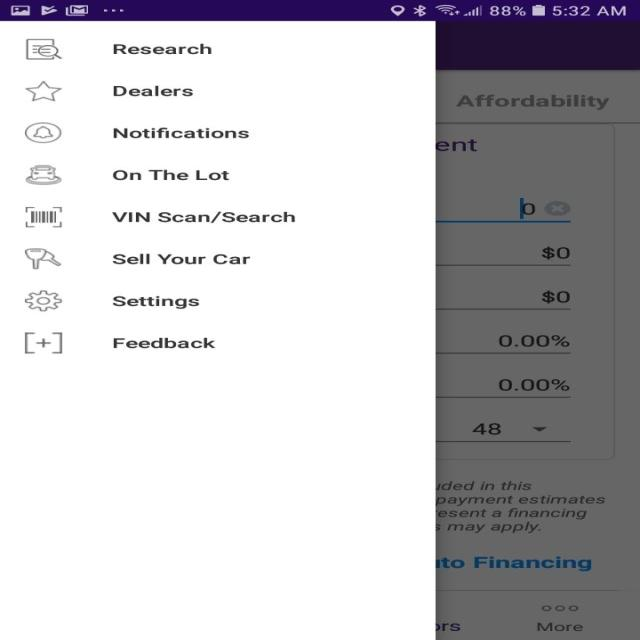Drawer: (0, 21, 436, 639)
Icon: (24, 332, 62, 354), (24, 290, 62, 312), (24, 80, 62, 102), (24, 122, 62, 143), (26, 38, 62, 60)
Image: (24, 206, 62, 228), (24, 248, 62, 269), (24, 164, 62, 185)
Text: (111, 211, 295, 223), (112, 252, 251, 264), (113, 126, 249, 138), (112, 168, 230, 180), (112, 42, 212, 54), (113, 337, 216, 348), (112, 296, 199, 309), (113, 85, 193, 97)
